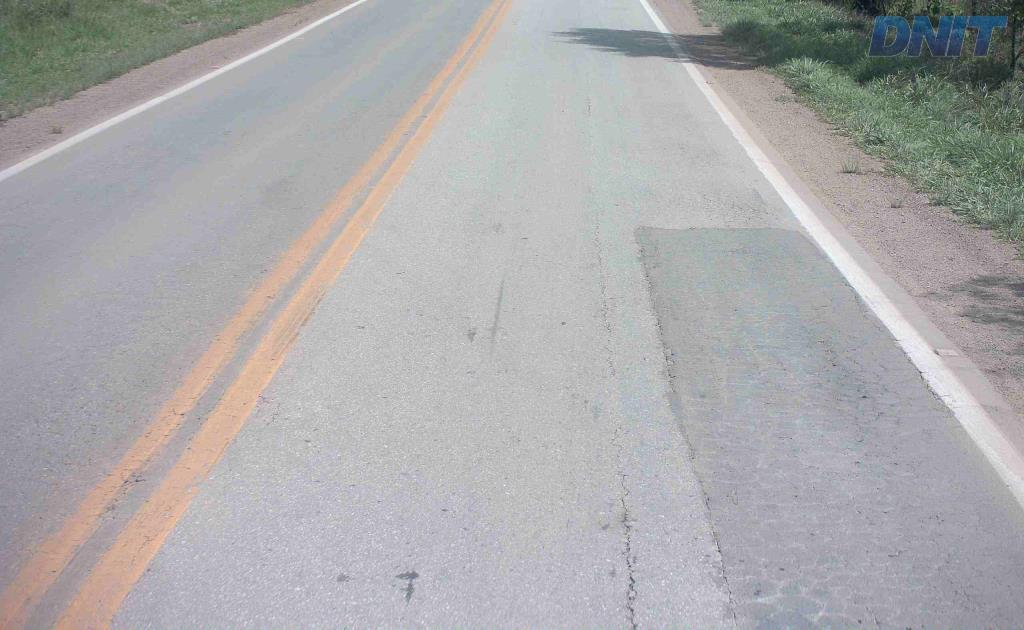crack: (597, 468, 642, 629), (809, 336, 881, 409)
